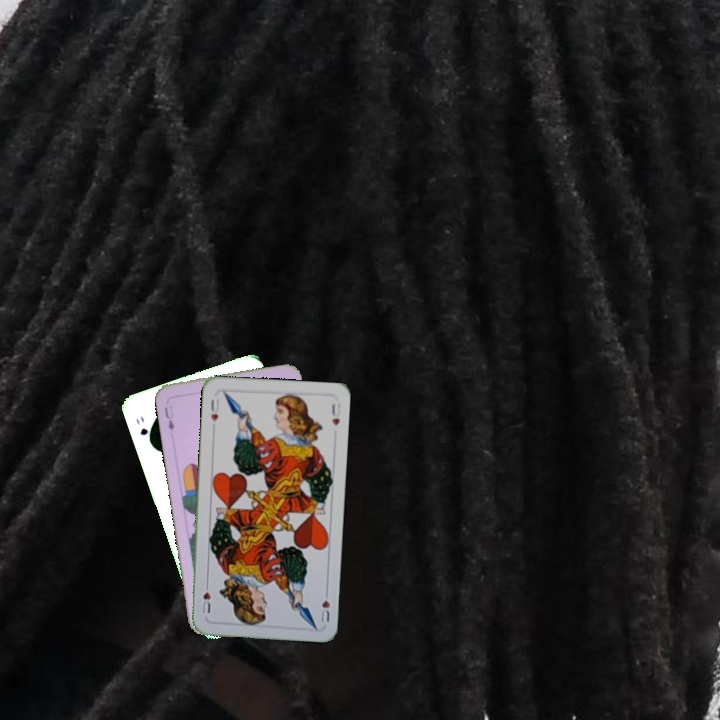EU: (161, 402, 177, 434)
GO: (132, 412, 154, 446)
HU: (317, 586, 332, 625), (207, 393, 222, 424)
